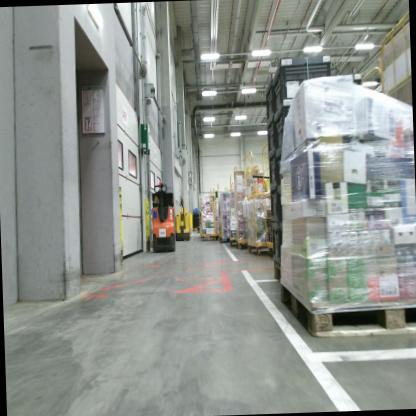pallet: (280, 270, 416, 339), (272, 255, 296, 291), (192, 226, 200, 233)
pallet_truck: (148, 177, 178, 257), (176, 191, 193, 245)
